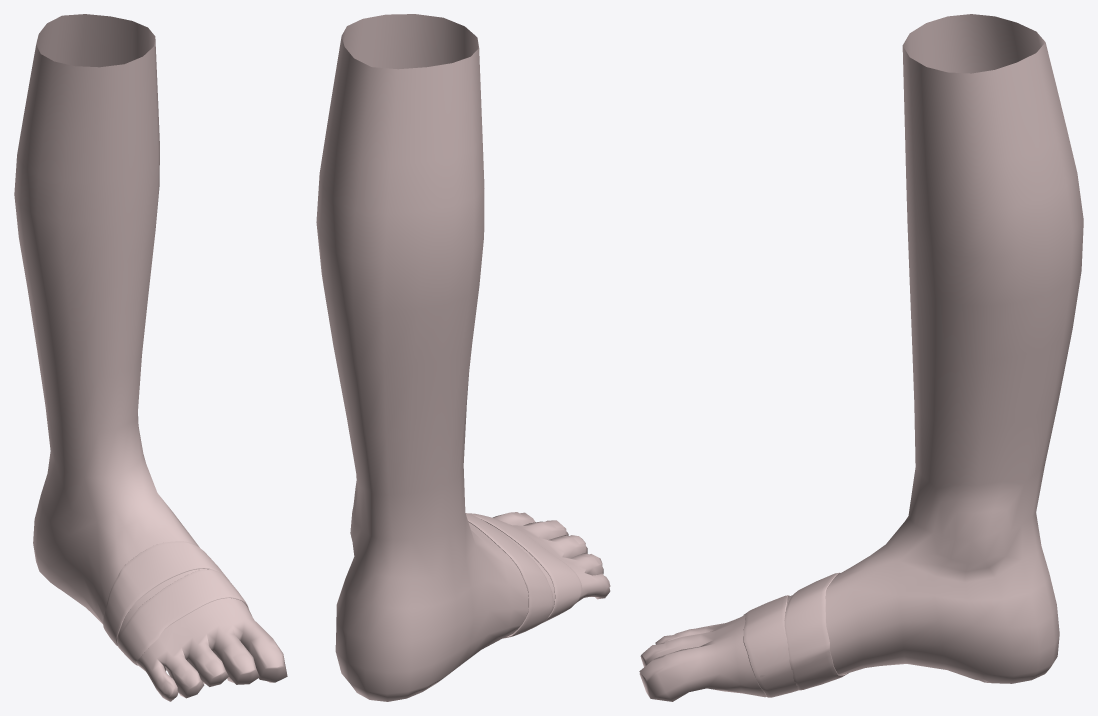
File: LacFootWrap2.fbx
The picture shows the model from 3 angles, left to right: view 1: azimuth 30°, elevation 25°; view 2: azimuth 150°, elevation 25°; view 3: azimuth 270°, elevation 25°; orthographic projection. The views are drawn at different scales.
Visible parts, largest first — view 1: pCube12, polySurface4, polySurface3; view 2: pCube12, polySurface3, polySurface4; view 3: pCube12, polySurface3, polySurface4.
Part boxes in pixels (left/top/right/bottom): pCube12: left=14, top=14, right=287, bottom=701; polySurface4: left=117, top=569, right=248, bottom=665; polySurface3: left=103, top=541, right=229, bottom=645; pCube12: left=316, top=14, right=610, bottom=701; polySurface3: left=465, top=513, right=553, bottom=638; polySurface4: left=466, top=513, right=582, bottom=622; pCube12: left=639, top=14, right=1083, bottom=701; polySurface3: left=784, top=572, right=848, bottom=690; polySurface4: left=743, top=595, right=798, bottom=697.
Bounding box in the file's own units: 1.12 × 4.63 × 2.9.
